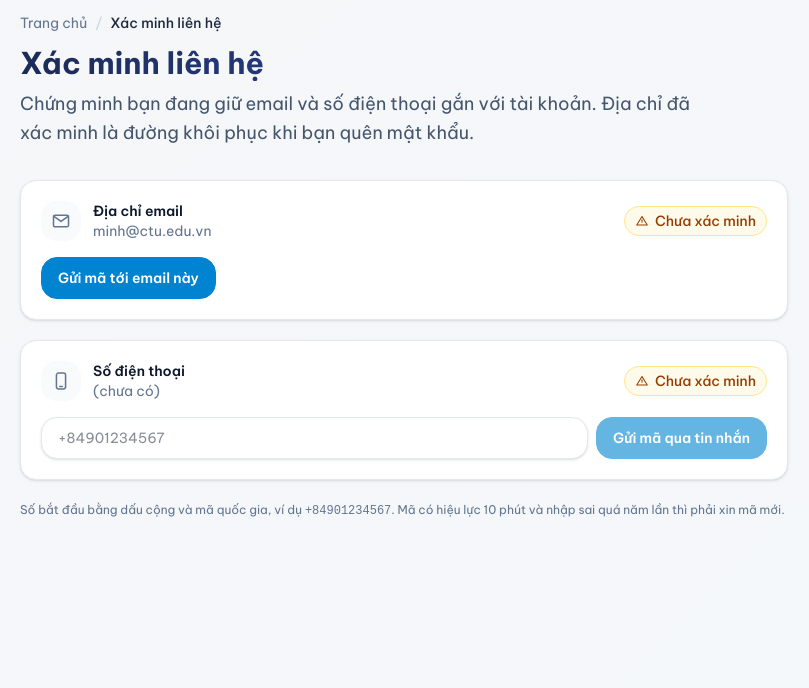
Test case: Máy chủ báo còn phải đợi › mở ô nhập mã ra vì mã cũ vẫn còn sống
The width and height of the screenshot is (809, 688).
Click the button "Gửi mã tới email này" at (128, 278), box [41,256,216,298]
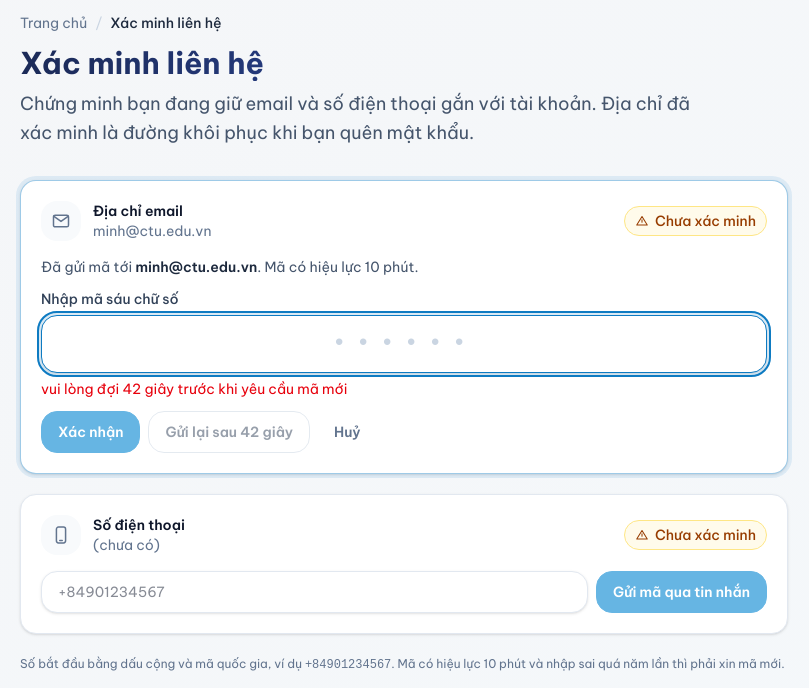
Result: the field labelled "Nhập mã sáu chữ số" is shown at [41,314,767,372]
Result: the button "Gửi lại sau 42 giây" is disabled at [148,410,310,452]
